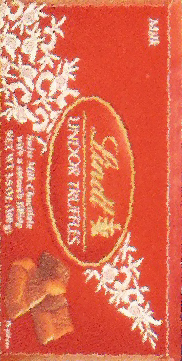grozi_64: (0, 0, 182, 361)
